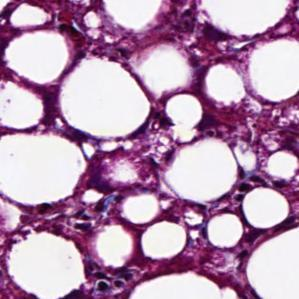inflammation: (58, 17, 104, 51), (85, 158, 122, 200)
